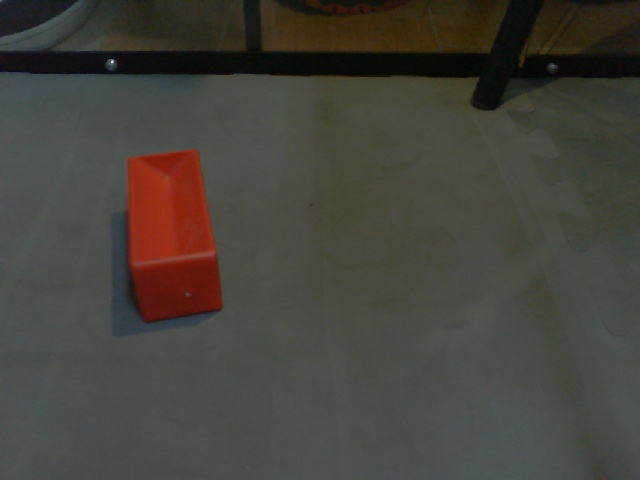RedSample: (121, 146, 224, 325)
